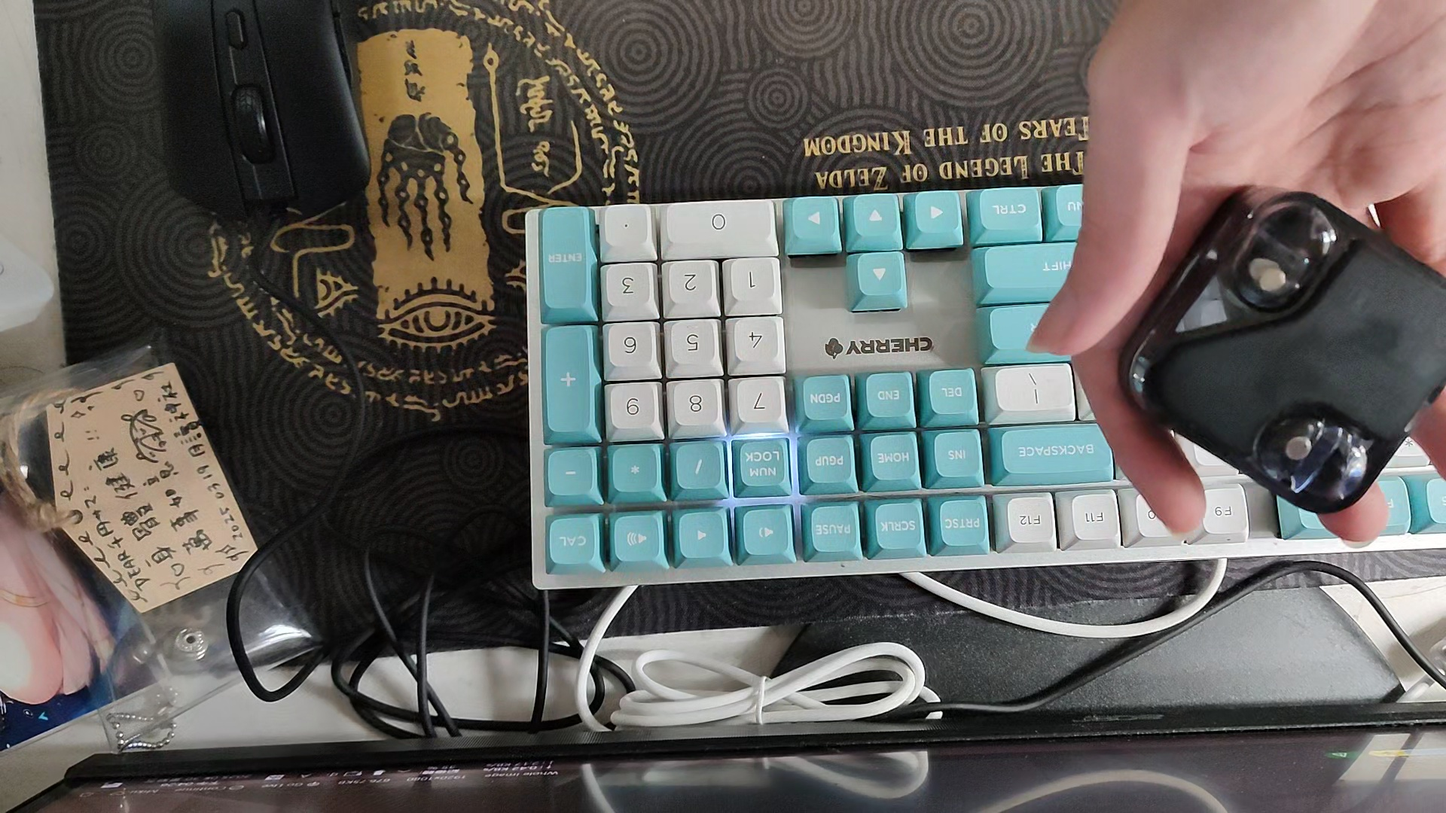Wireless_earphone: (1115, 182, 1446, 517)
